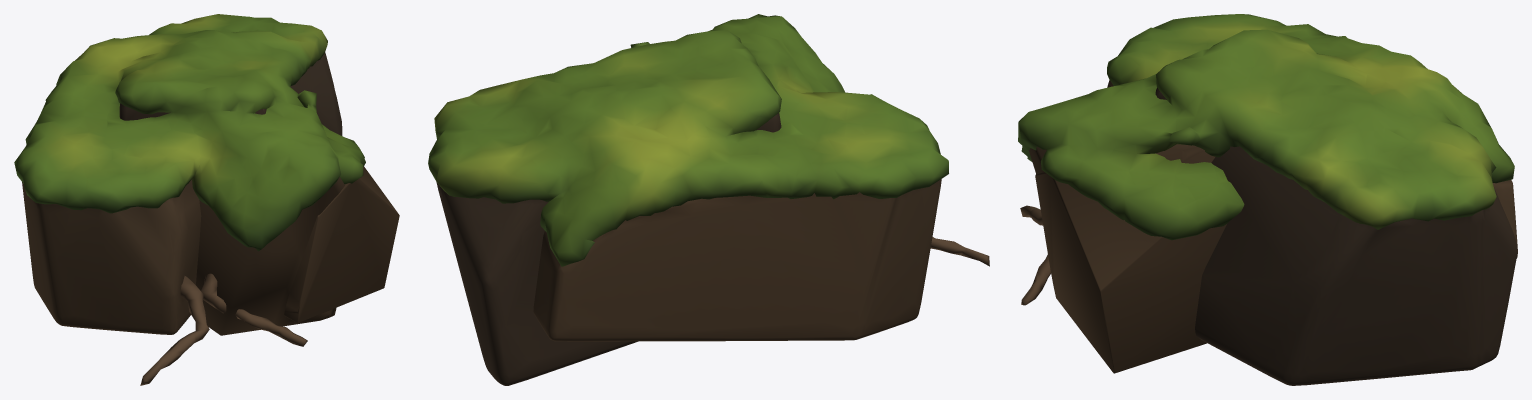
File: mire_peat_clod_b.glb
3 renders of one model, left to right at view 1: azimuth 30°, elevation 25°; view 2: azimuth 150°, elevation 25°; view 3: azimuth 270°, elevation 25°, orthographic. The views are drawn at different scales.
Visible parts, largest first — view 1: mire_peat_clod_b; view 2: mire_peat_clod_b; view 3: mire_peat_clod_b.
Part boxes in pixels (x1,y1,x2,y2): mire_peat_clod_b: (14,14,399,385); mire_peat_clod_b: (428,14,989,385); mire_peat_clod_b: (1018,14,1517,385).
Size of the model in its own units: 10.53 by 6.12 by 10.5.
